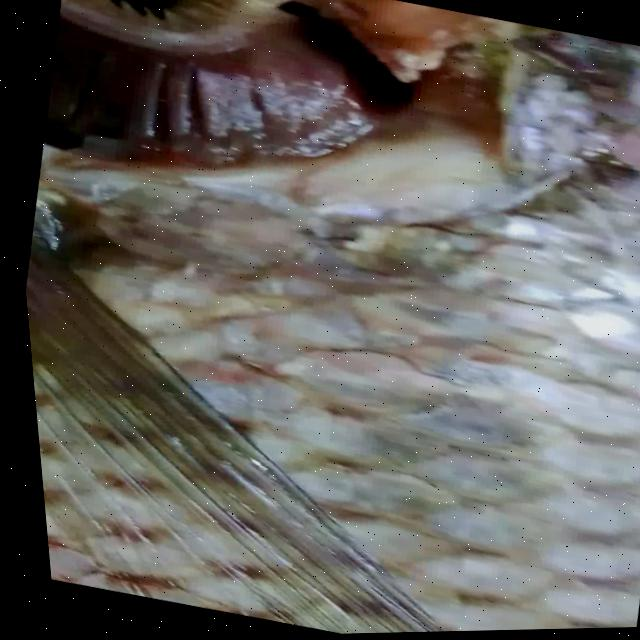Non-Fresh: (25, 0, 404, 232)
